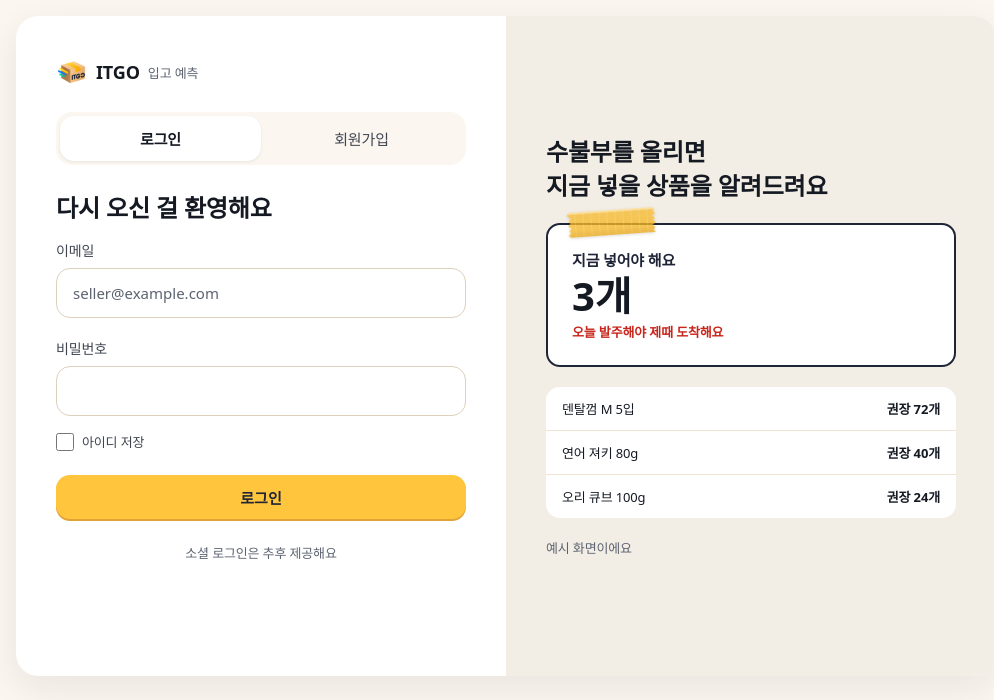
Test: LoginPage › 빈 칸으로 로그인하면 칸마다 안내를 보여준다
The width and height of the screenshot is (994, 700).
Click the button "로그인" at (261, 497), box [56,475,466,519]
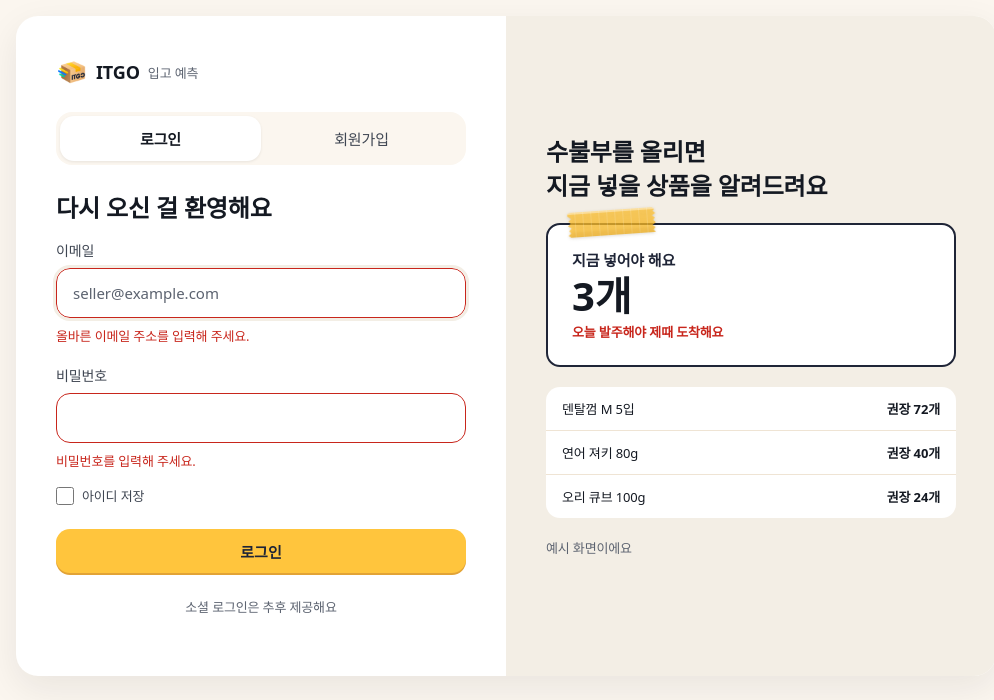
Result: the text "올바른 이메일 주소를 입력해 주세요." is shown at [56,327,249,345]
Result: the text "비밀번호를 입력해 주세요." is shown at [56,452,196,470]
